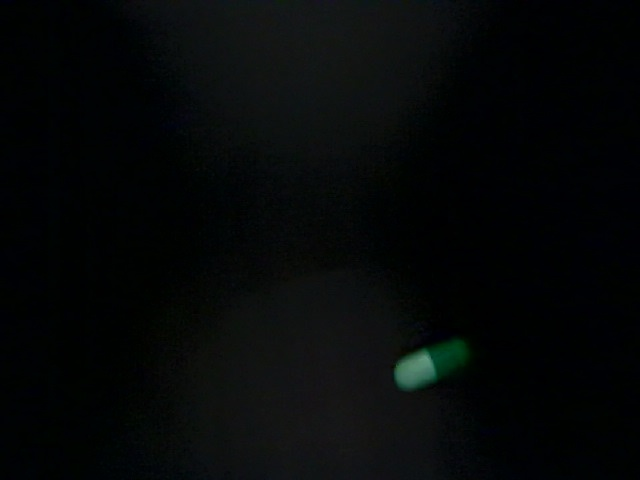YHLJ: (467, 452, 521, 480)
